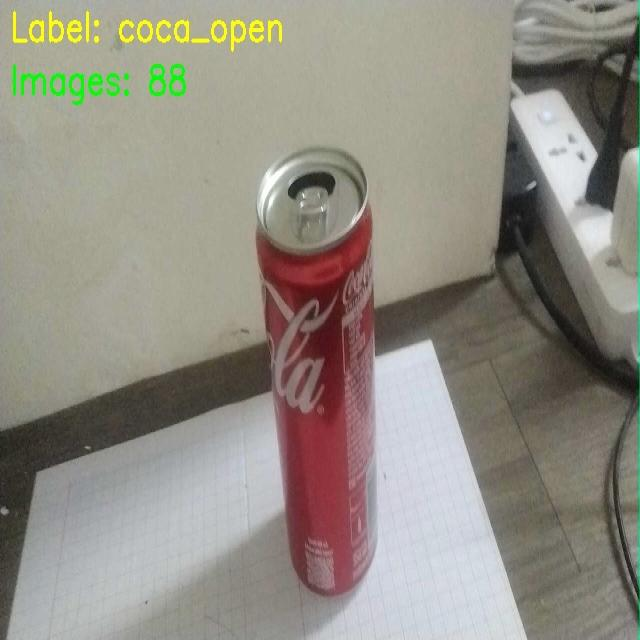Coca_open: (248, 142, 402, 603)
